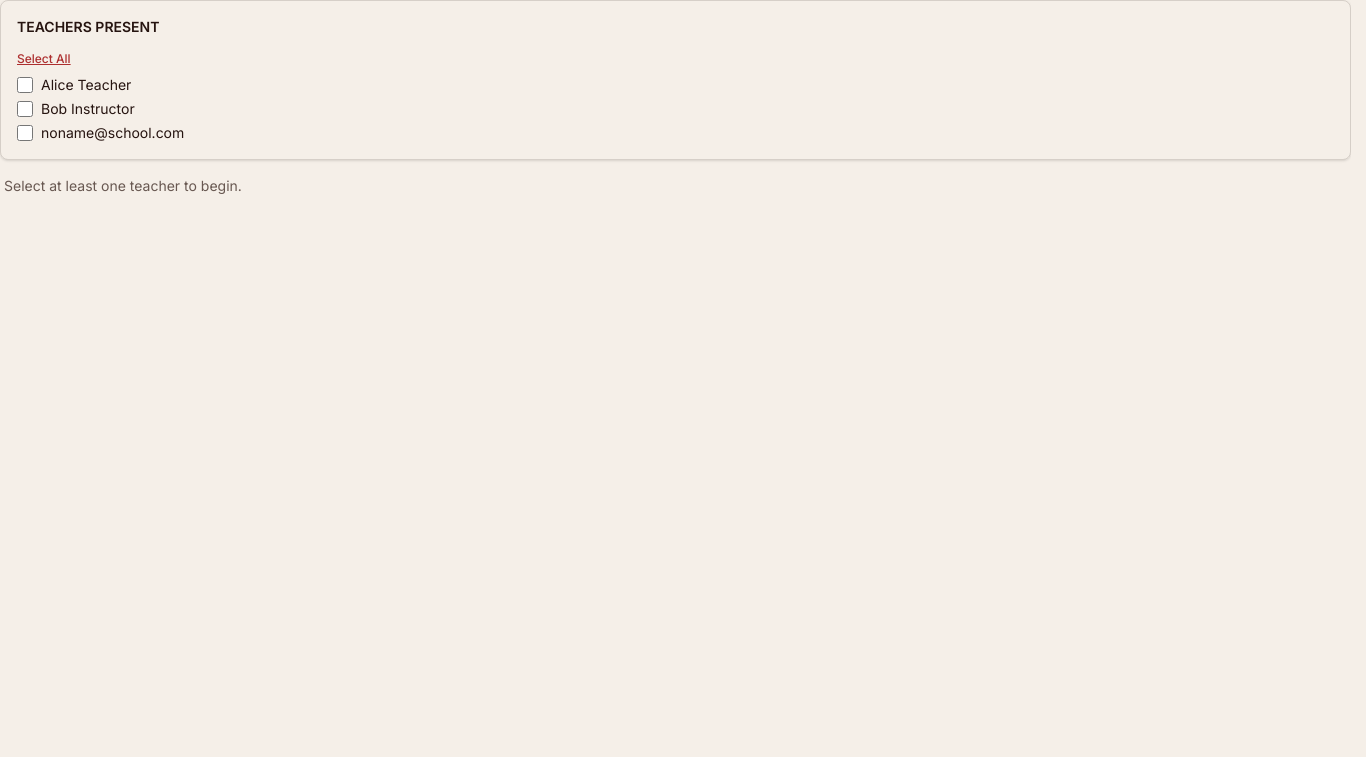
Scenario: AFTeamInteractionForm › teacher interaction › Select All selects all fetched teachers
Click the button with test id "af-team-select-all" at (44,59), box [17, 51, 71, 67]
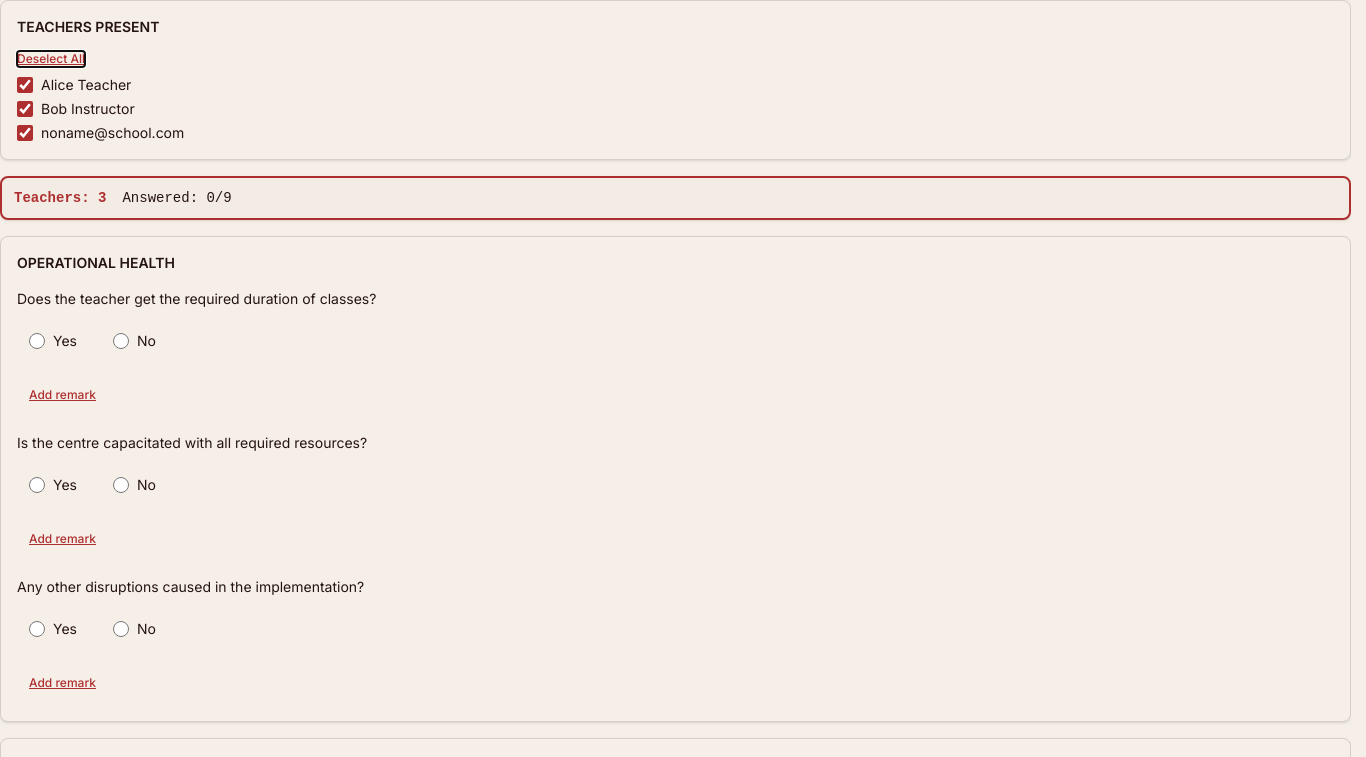
Result: the checkbox with test id "af-team-teacher-1" is checked at [17, 77, 33, 93]
Result: the checkbox with test id "af-team-teacher-2" is checked at [17, 101, 33, 117]
Result: the checkbox with test id "af-team-teacher-3" is checked at [17, 125, 33, 141]
